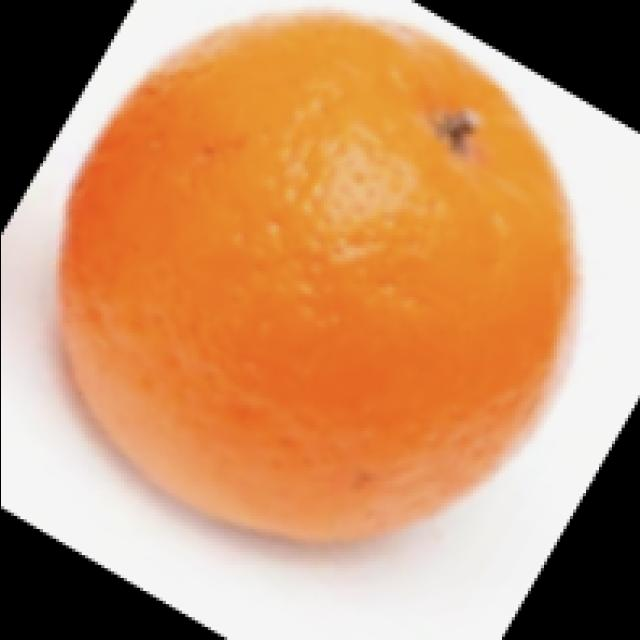orange: (44, 6, 612, 556)
